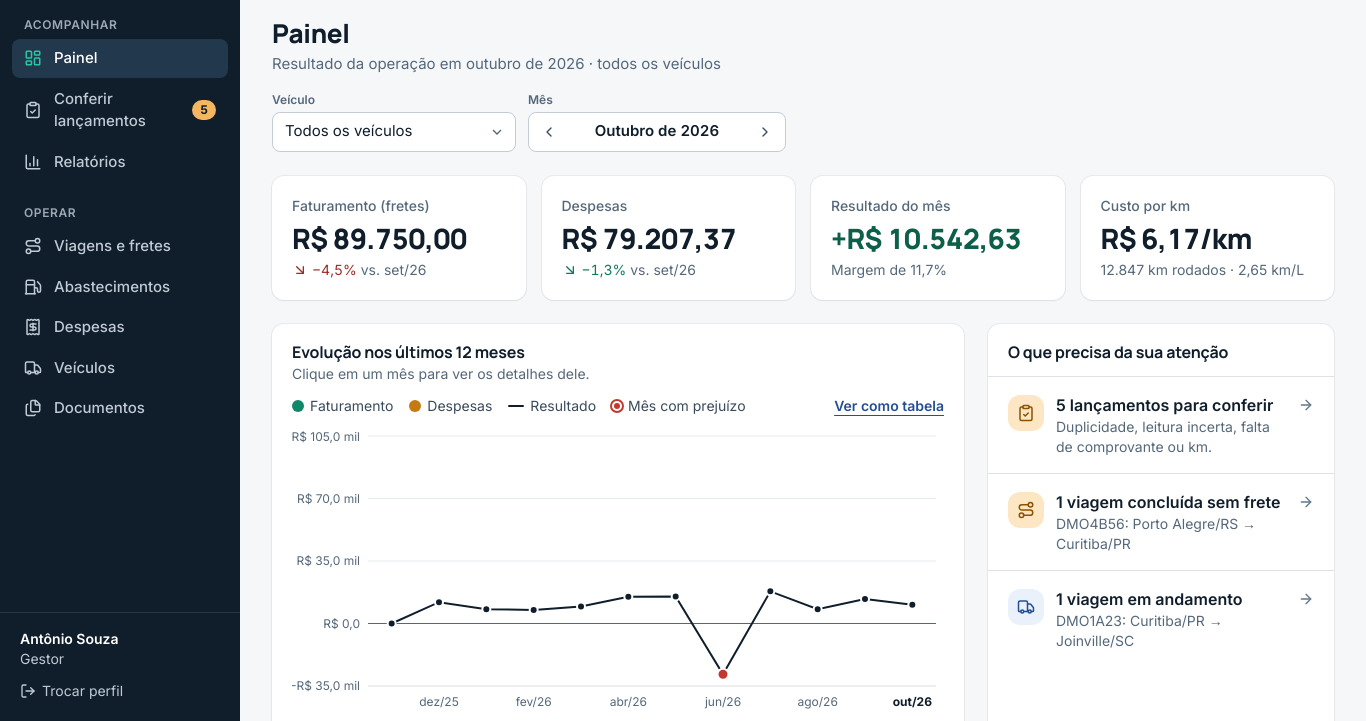
it: Gestor › gráfico tem alternativa em tabela e destaca mês com prejuízo em texto
The image size is (1366, 721).
Click the button "Ver como tabela".
click(889, 406)  # box 834,396 -> 944,416
(page scrolled)
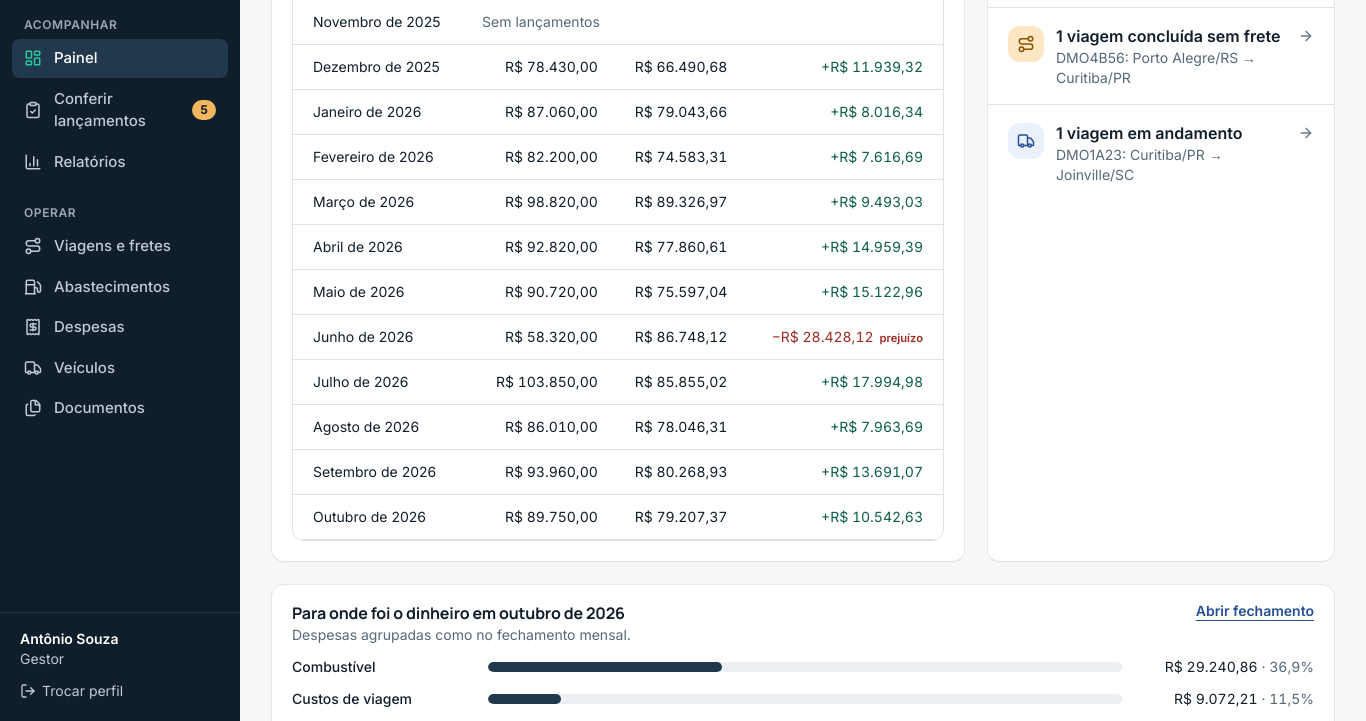
Result: the text "prejuízo" is shown at 880,330 -> 923,344
